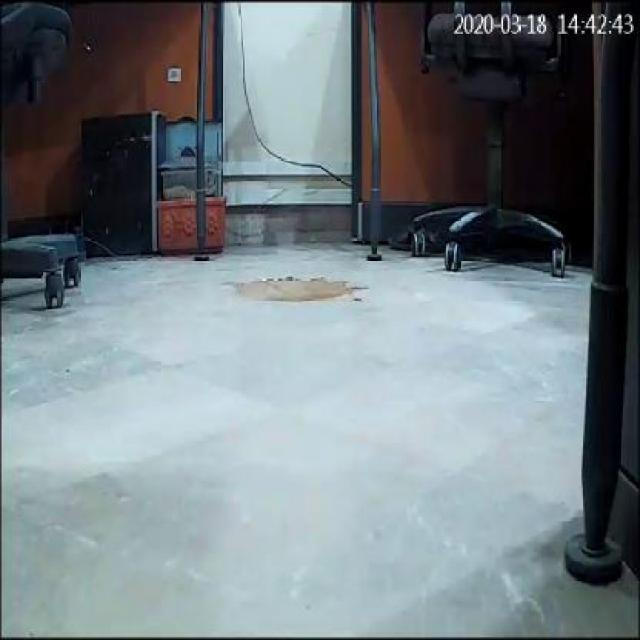spill: (226, 269, 368, 306)
